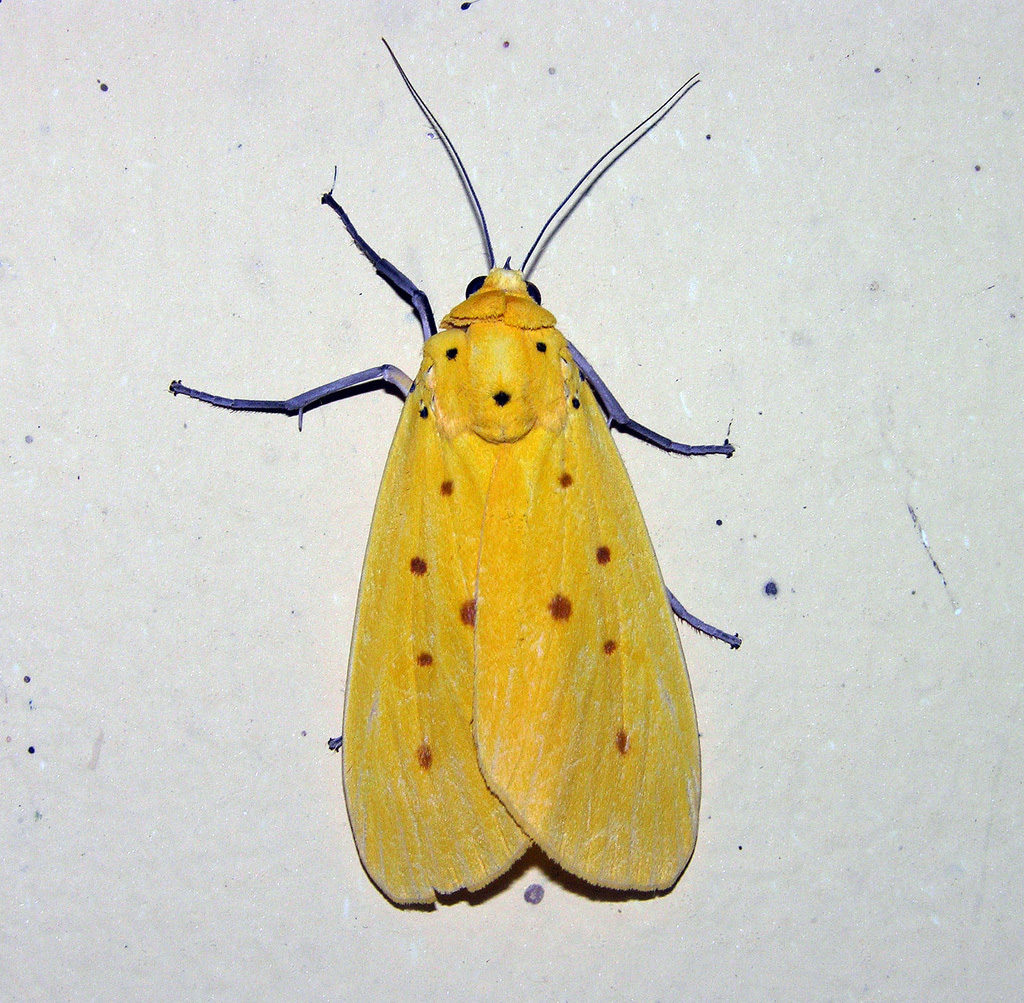Agape chloropyga: (155, 20, 749, 915)
moth: (157, 22, 751, 917)
